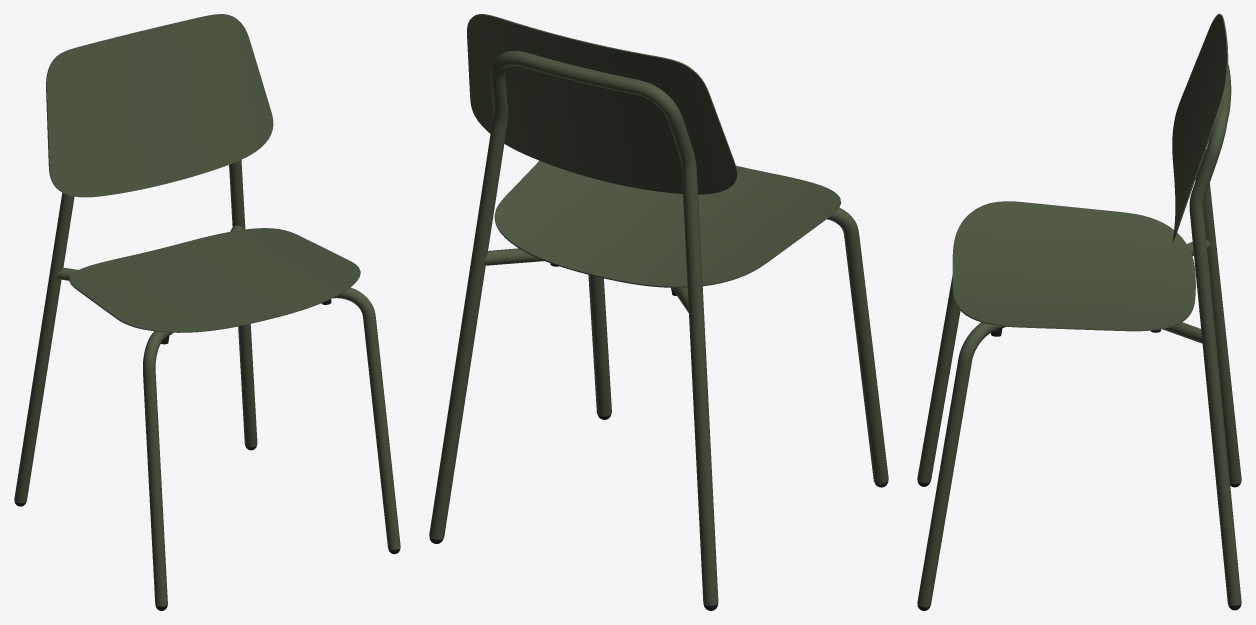
3 views of the same model, side by side, from view 1: azimuth 30°, elevation 25°; view 2: azimuth 150°, elevation 25°; view 3: azimuth 270°, elevation 25° (orthographic). The views are drawn at different scales.
Parts seen in each view (by area): view 1: rb_chair_element_black; view 2: rb_chair_element_black; view 3: rb_chair_element_black.
Part boxes in pixels (x1,y1,x2,y2): rb_chair_element_black: (14,14,400,610); rb_chair_element_black: (429,14,888,610); rb_chair_element_black: (917,14,1241,610).
Size of the model in its own units: 0.4674 by 0.8238 by 0.4929.
